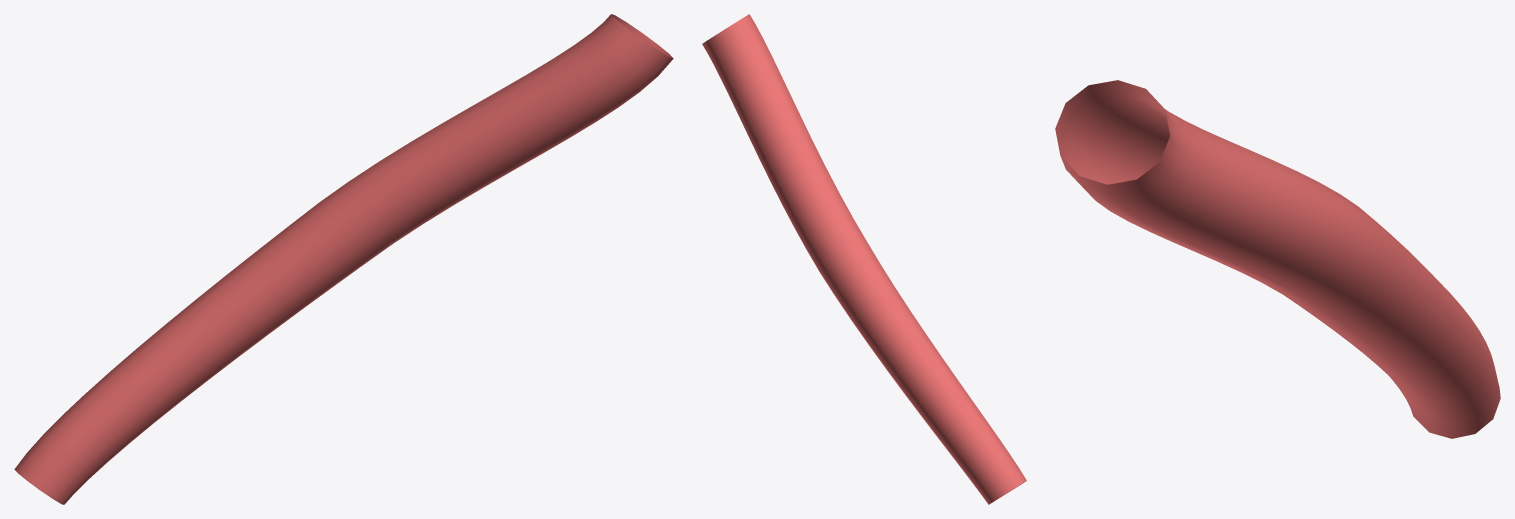
File: Ileal_branch_ileocolic_artery.glb
The picture shows the model from 3 angles, left to right: view 1: azimuth 30°, elevation 25°; view 2: azimuth 150°, elevation 25°; view 3: azimuth 270°, elevation 25°; orthographic projection. The views are drawn at different scales.
Parts seen in each view (by area): view 1: Ileal_branch_of_ileocolic_artery_BezierCurve.423; view 2: Ileal_branch_of_ileocolic_artery_BezierCurve.423; view 3: Ileal_branch_of_ileocolic_artery_BezierCurve.423.
Part boxes in pixels (<box>): Ileal_branch_of_ileocolic_artery_BezierCurve.423: <box>14,14,673,504</box>; Ileal_branch_of_ileocolic_artery_BezierCurve.423: <box>702,14,1026,504</box>; Ileal_branch_of_ileocolic_artery_BezierCurve.423: <box>1055,80,1500,438</box>.
Size of the model in its own units: 0.0241 by 0.0196 by 0.0116.
